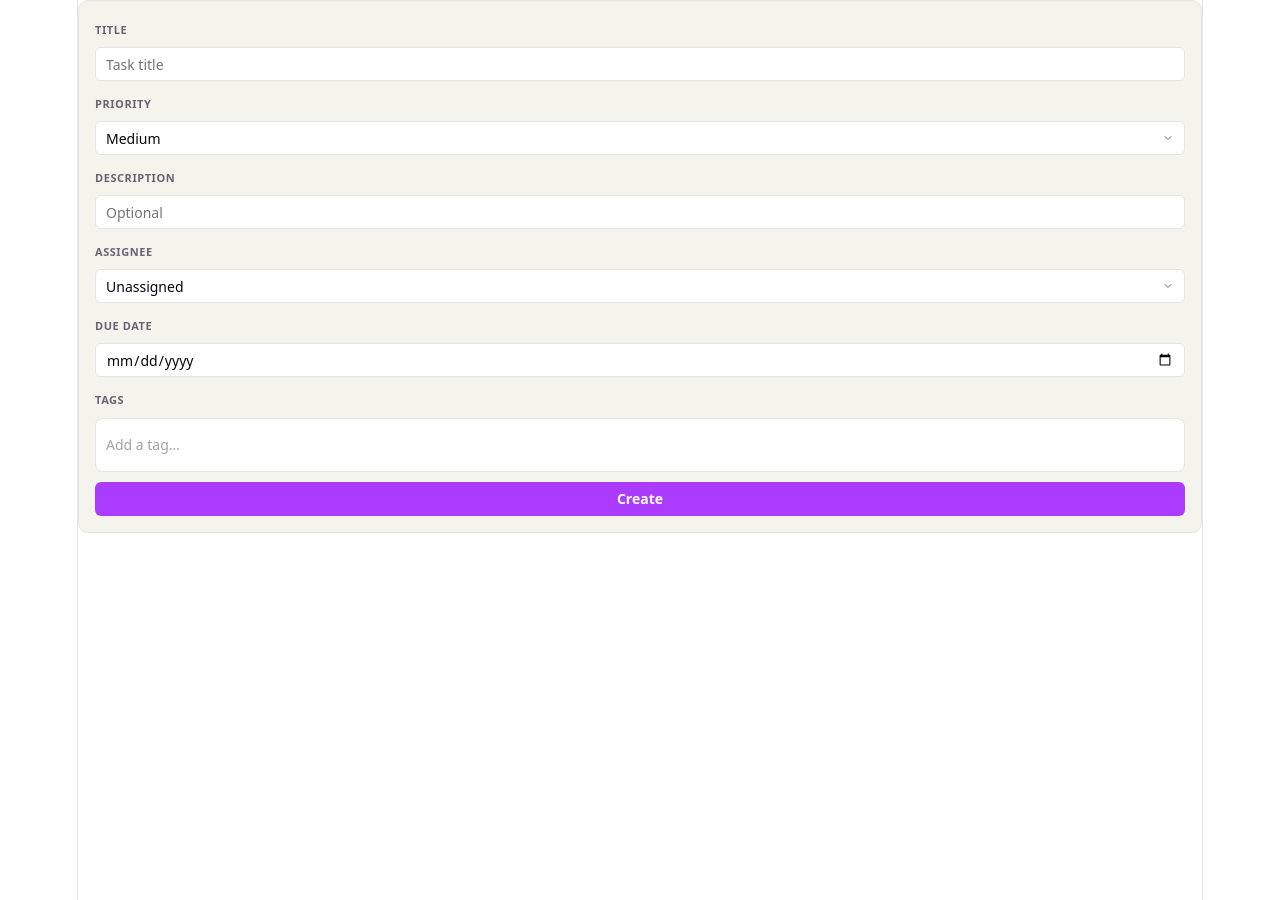
Test case: CreateTaskForm › shows validation error when title is empty
What coordinates should you click on to do the following:
click the button "Create"
I would click on:
 (640, 499)
Its box is [95,482,1185,516].
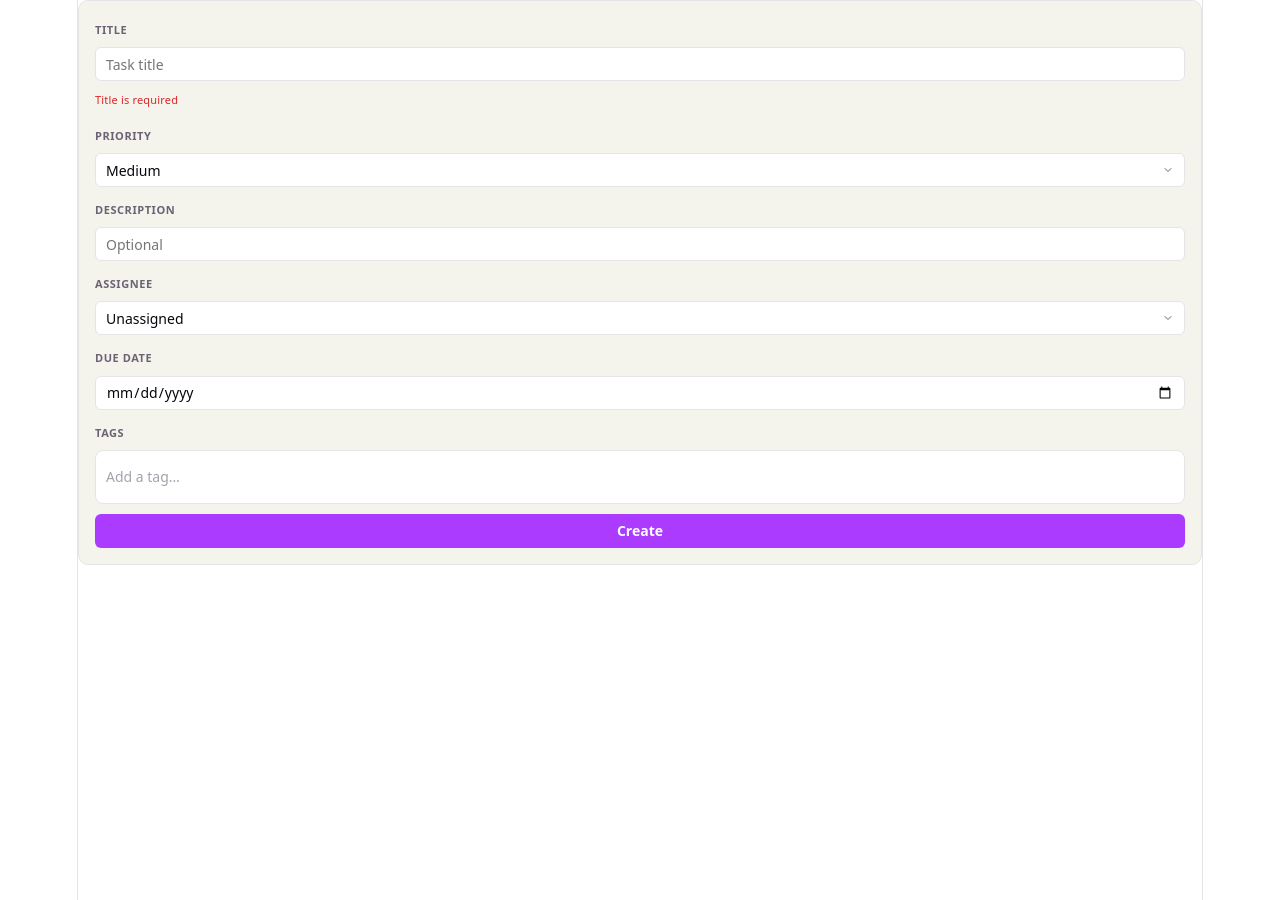
expect the text "Title is required" is shown: met, box [95,92,178,107]
